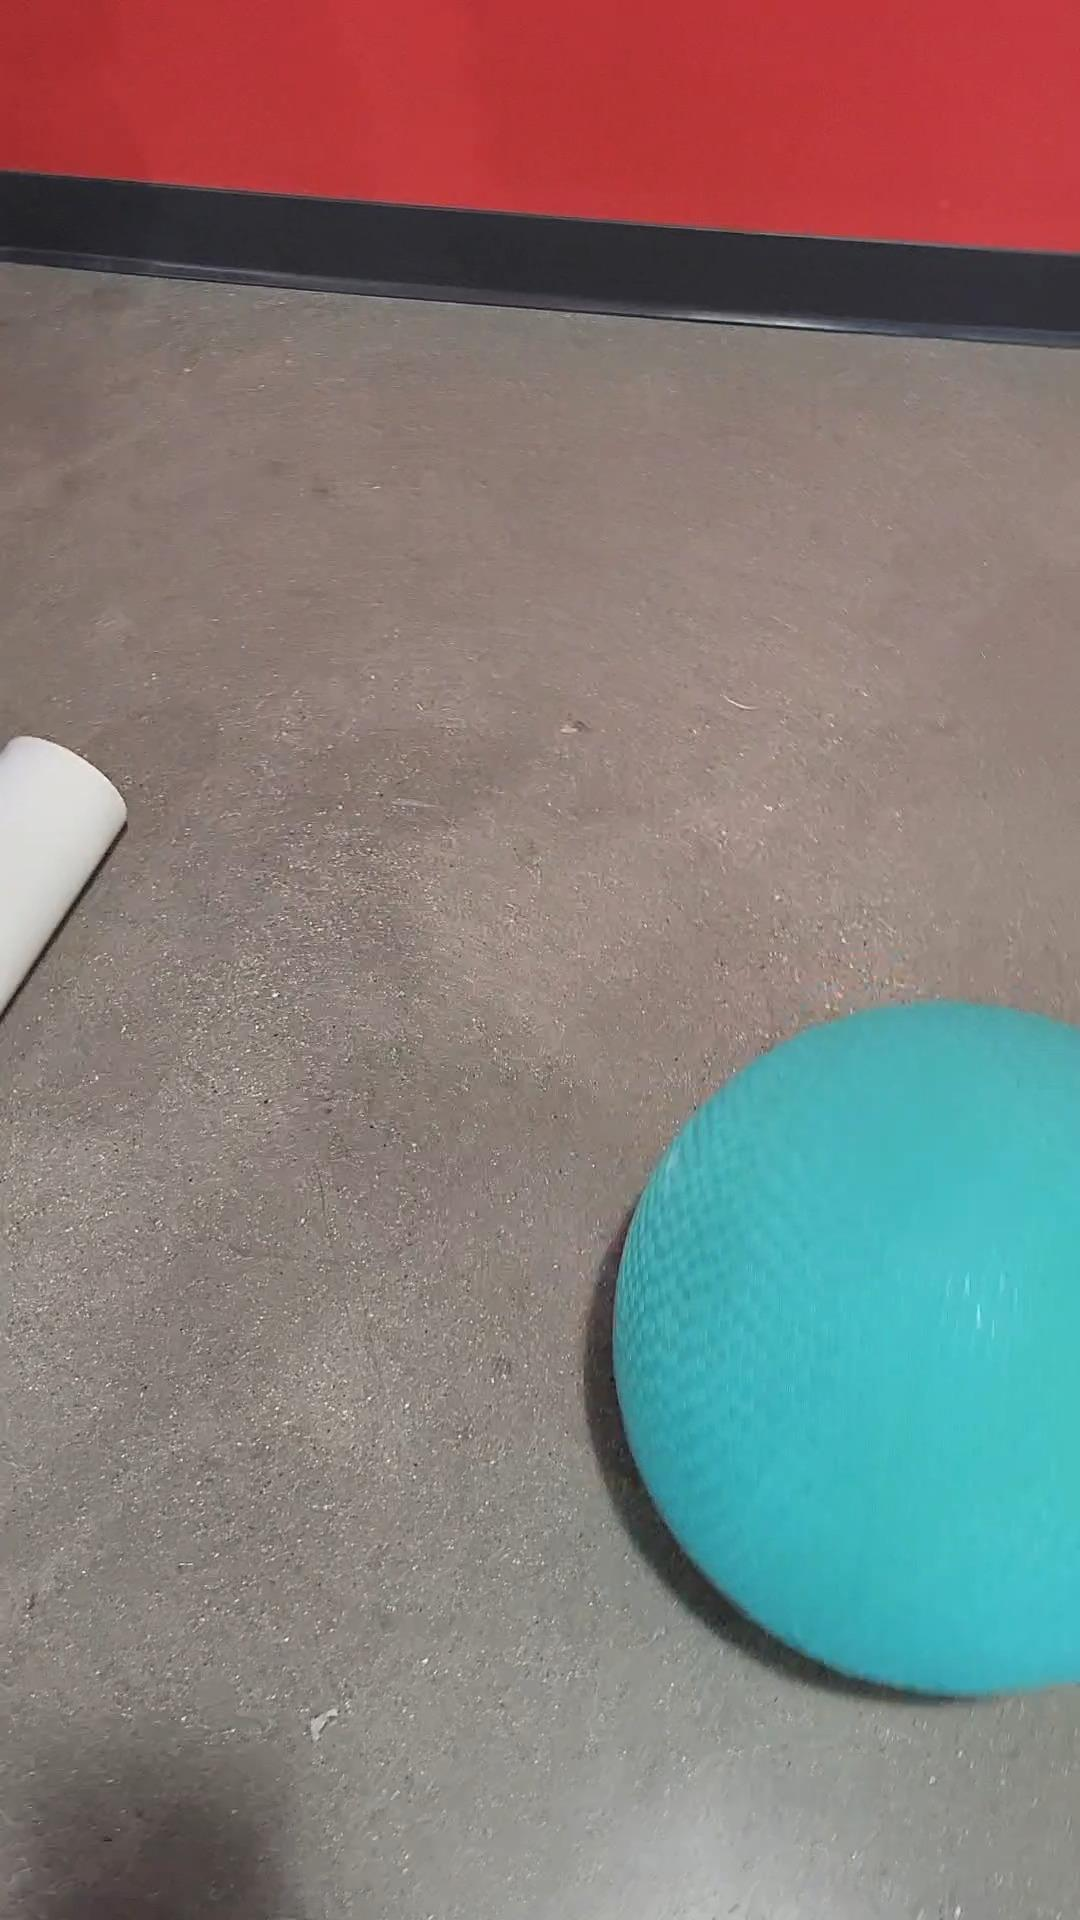algae: (596, 967, 1080, 1705)
coral: (0, 721, 174, 1033)
